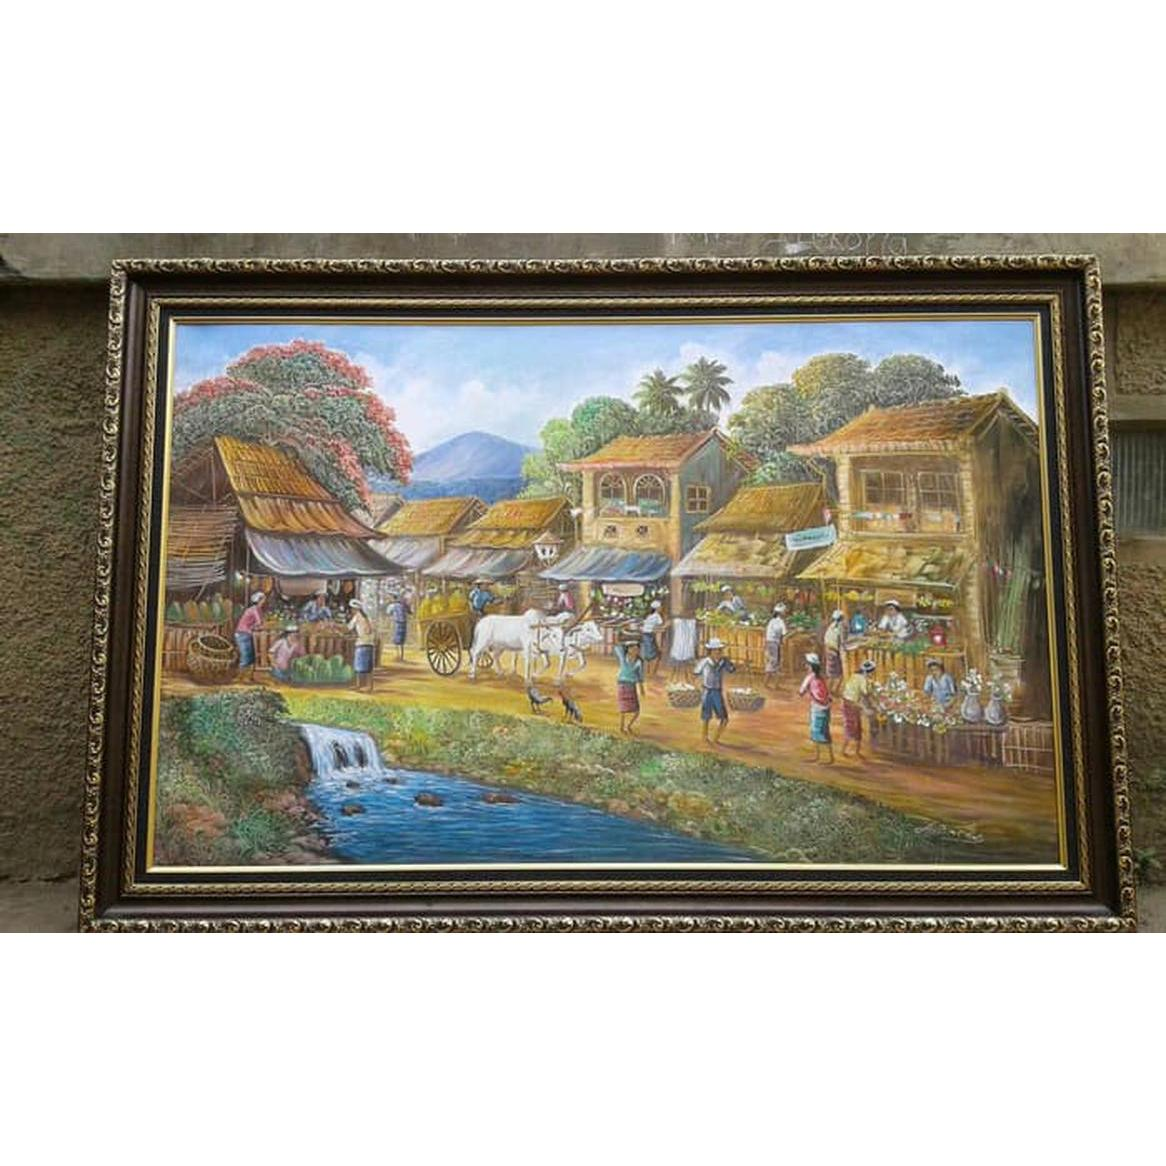lukisan: (76, 268, 1154, 954)
